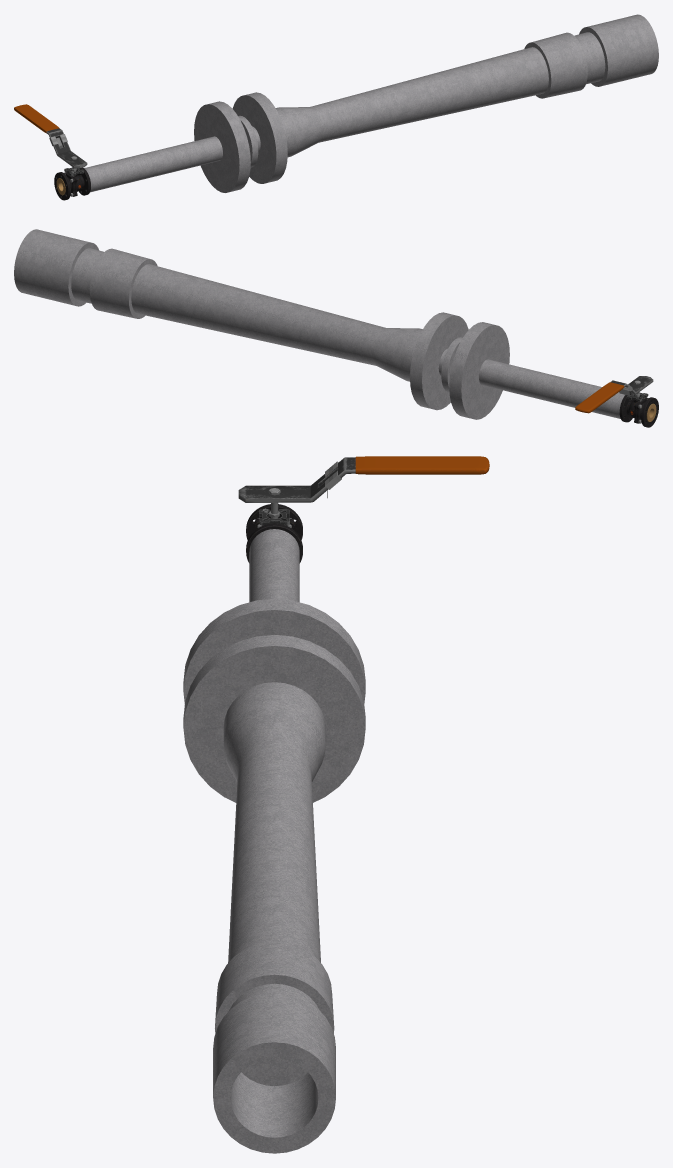
File: Burner.fbx
The picture shows the model from 3 angles, top to bottom: view 1: azimuth 30°, elevation 25°; view 2: azimuth 150°, elevation 25°; view 3: azimuth 270°, elevation 25°; orthographic projection. The views are drawn at different scales.
Visible parts, largest first — view 1: Cylinder; view 2: Cylinder; view 3: Cylinder.
Part boxes in pixels (left/top/right/bottom): Cylinder: left=14, top=14, right=658, bottom=200; Cylinder: left=14, top=229, right=658, bottom=427; Cylinder: left=183, top=456, right=489, bottom=1153.
Bounding box in the file's own units: 593 × 80.34 × 135.
Materials: 2 (2 with a texture image).
